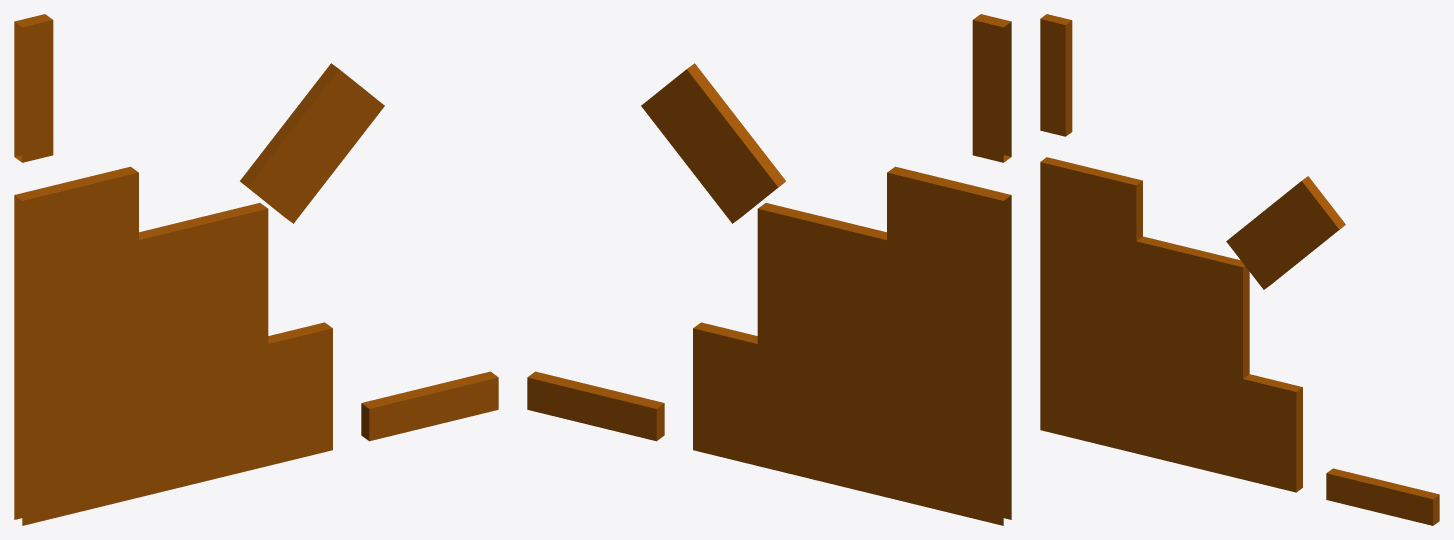
File: Soleil_base.glb
3 renders of one model, left to right at view 1: azimuth 30°, elevation 25°; view 2: azimuth 150°, elevation 25°; view 3: azimuth 330°, elevation 25°, orthographic. The views are drawn at different scales.
Visible parts, largest first — view 1: Cube.001; view 2: Cube.001; view 3: Cube.001.
Part boxes in pixels (<box>): Cube.001: <box>14,14,498,525</box>; Cube.001: <box>527,14,1011,525</box>; Cube.001: <box>1040,14,1439,525</box>.
Size of the model in its own units: 1.62 by 1.62 by 0.0479.
Materials: 1 (1 with a texture image).
